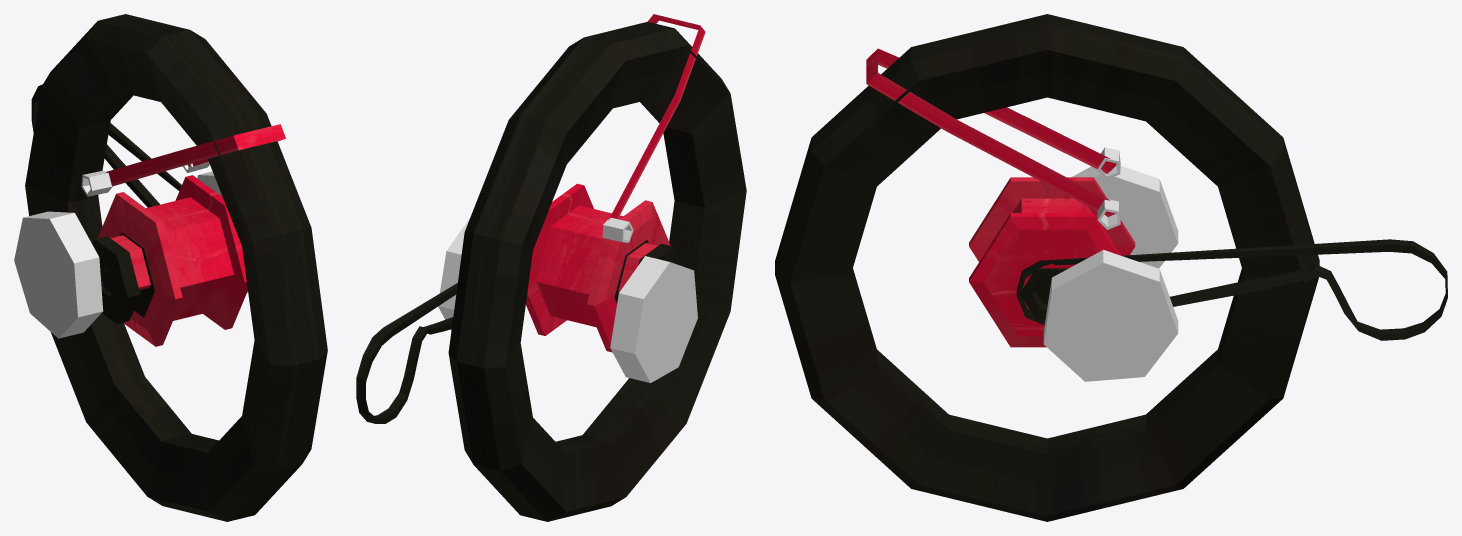
Rendered from wheelF.glb.
3 views of the same model, side by side, from view 1: azimuth 30°, elevation 25°; view 2: azimuth 150°, elevation 25°; view 3: azimuth 270°, elevation 25° (orthographic). The views are drawn at different scales.
Parts seen in each view (by area): view 1: shift; view 2: shift; view 3: shift.
Part boxes in pixels (<box>): shift: <box>14,14,327,521</box>; shift: <box>356,14,746,521</box>; shift: <box>775,14,1447,521</box>.
Size of the model in its own units: 0.6461 by 1.45 by 1.79.
Materials: 2 (1 with a texture image).
